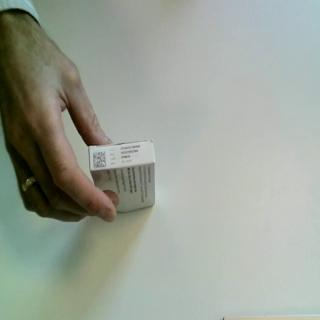oxycontin15mg: (88, 138, 158, 215)
